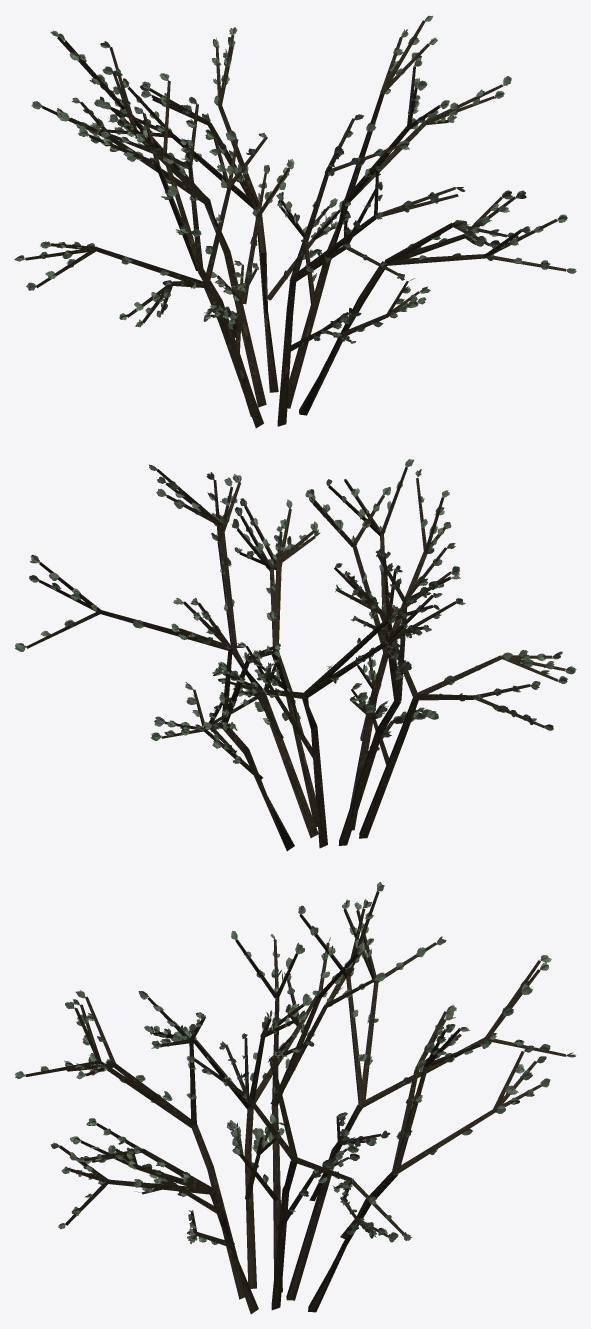
The model's file is alder_thicket_v02_LOD1.fbx.
3 renders of one model, top to bottom at view 1: azimuth 30°, elevation 25°; view 2: azimuth 150°, elevation 25°; view 3: azimuth 270°, elevation 25°, orthographic. The views are drawn at different scales.
Parts seen in each view (by area): view 1: alder_thicket_v02_LOD1; view 2: alder_thicket_v02_LOD1; view 3: alder_thicket_v02_LOD1.
Boxes of the visible parts, x1,y1,x2,y2 form: alder_thicket_v02_LOD1: (14, 15, 576, 428); alder_thicket_v02_LOD1: (15, 459, 576, 851); alder_thicket_v02_LOD1: (15, 882, 575, 1314).
Bounding box in the file's own units: 892 × 604 × 846.
Materials: 2 (2 with a texture image).
